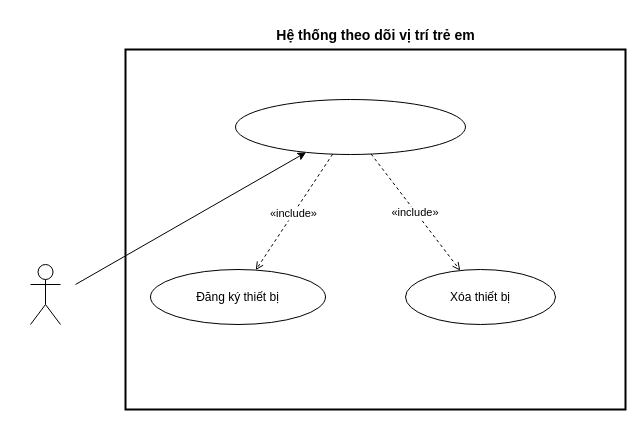
The diagram is 644 pixels wide and 427 high, and some of its shapes have lost their labels. Here are the shapes that lost their labels. From the top down, the box of each, then its label:
(234, 98, 466, 154): Quản lý thiết bị GPS
(30, 264, 60, 324): Phụ huynh
